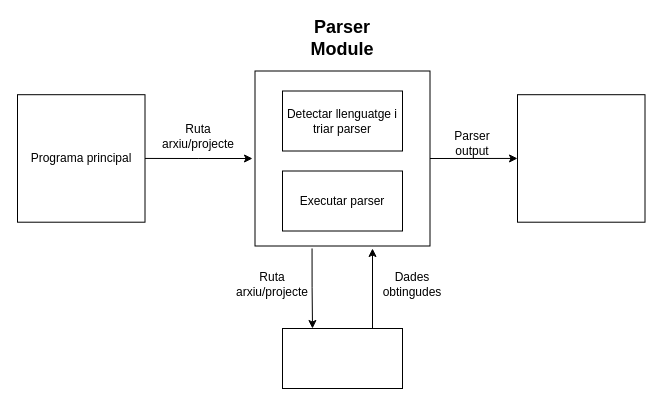
Some shapes in this 663 by 406 pixel diagram are drawn without their labels. The shapes that lost their labels are listed below. From the top down, each one's box as (x1, y1, x2, y2) in pixels, then its label:
(516, 94, 645, 222): Representació intermèdia
(282, 328, 402, 388): Clase parser amb constructors/utilitats
